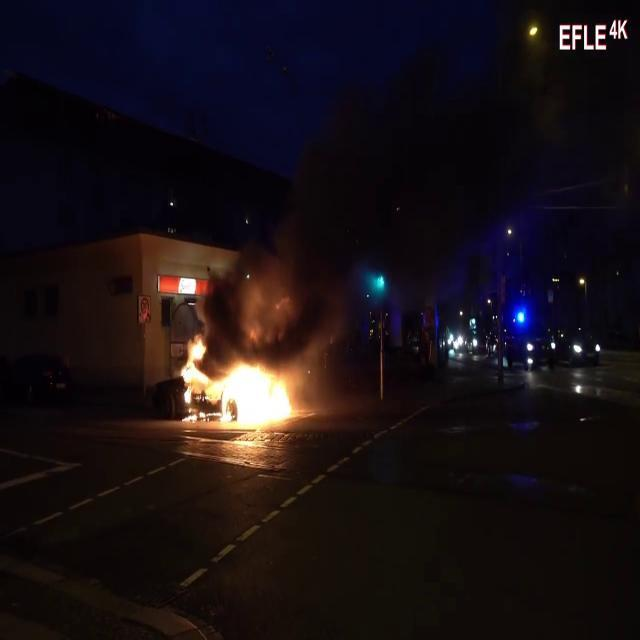Fire: (174, 334, 298, 434)
Smoke: (216, 114, 360, 383)
